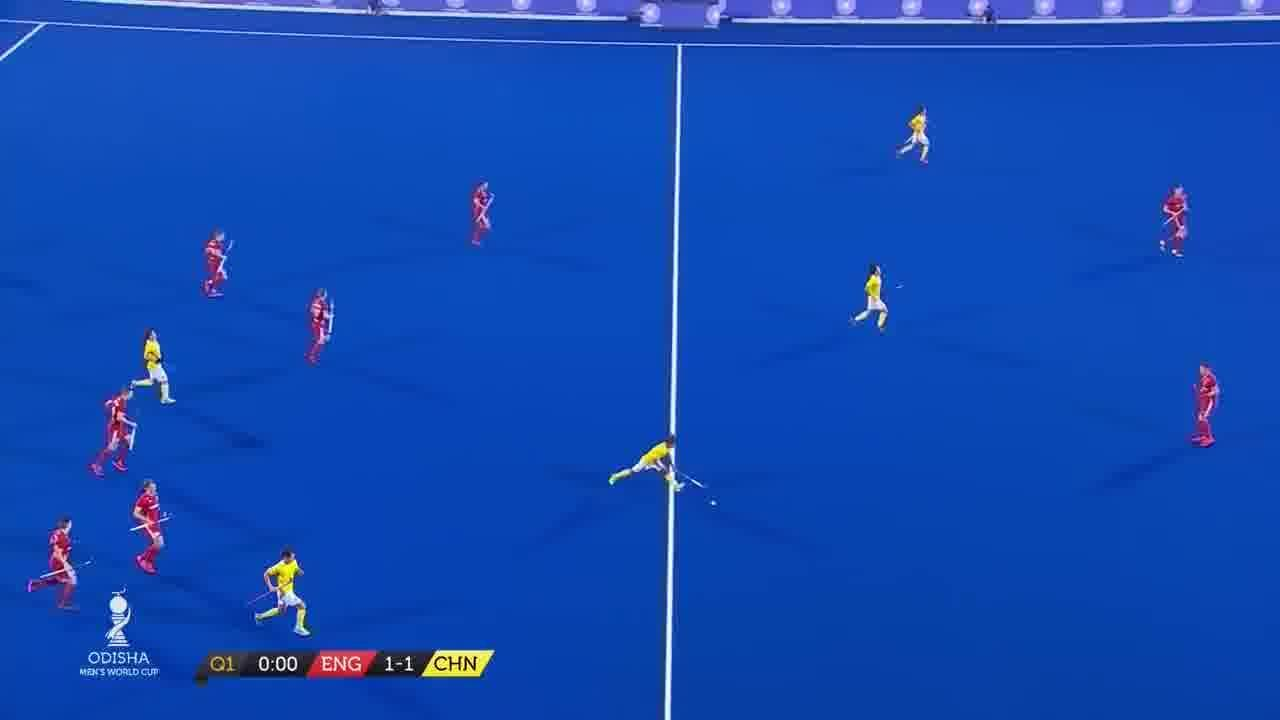ball: (709, 496, 716, 508)
